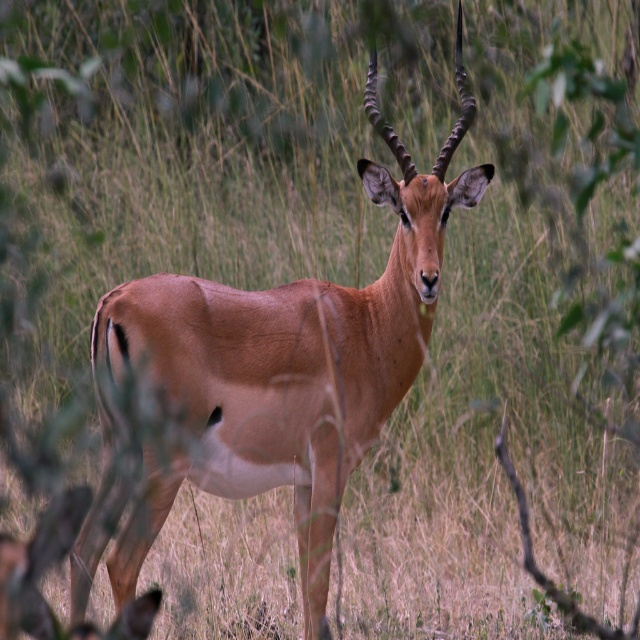Deer: (69, 0, 496, 640), (0, 491, 94, 640), (28, 578, 161, 640)
